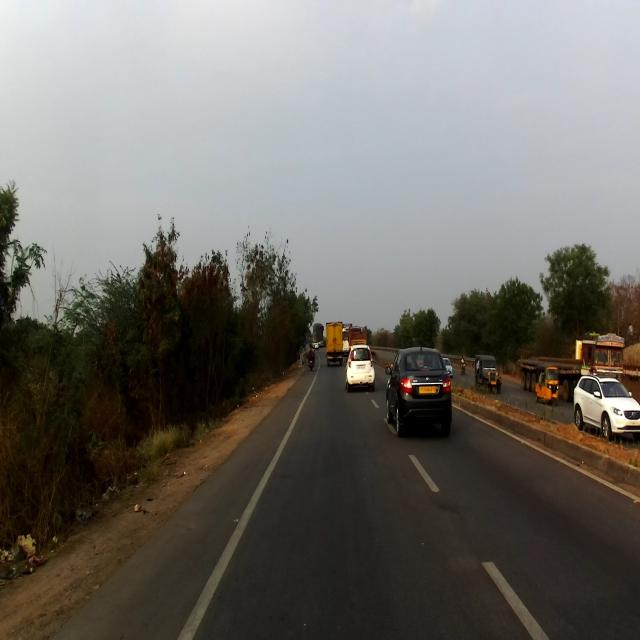car: (385, 347, 453, 436), (572, 373, 640, 442), (344, 343, 375, 393)
truck: (347, 322, 369, 347)
